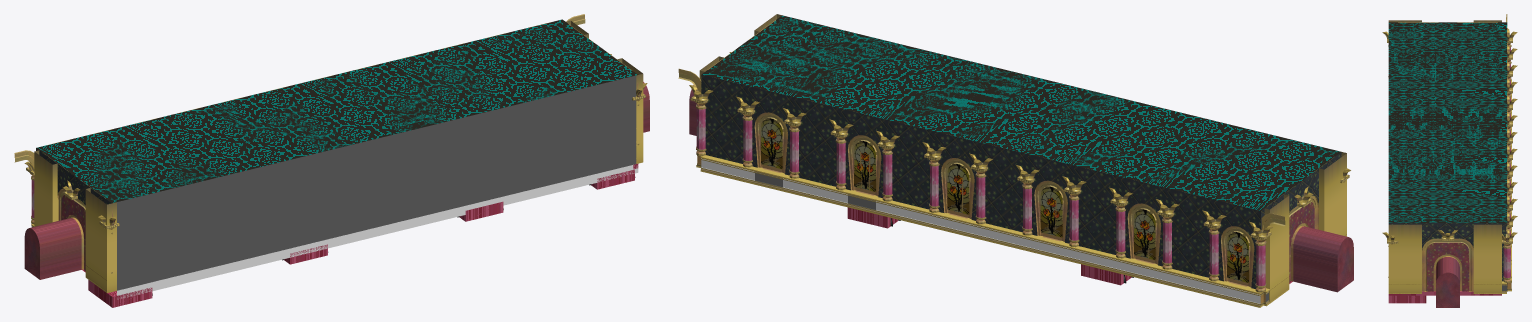
Rendered from las_03.dae.
3 renders of one model, left to right at view 1: azimuth 30°, elevation 25°; view 2: azimuth 150°, elevation 25°; view 3: azimuth 270°, elevation 25°, orthographic. The views are drawn at different scales.
Parts seen in each view (by area): view 1: pPlane2_q00009, polySurface1_q00126_part1, polySurface1_q00109_part1, polySurface1_q00092_part1, polySurface1_q00058_part1, polySurface1_q00075_part1, polySurface1_q00010, pPlane2_q000010, polySurface1_q00147_part1, polySurface1_q00041_part1, S_l_bero_03_part2, polySurface3_q00012 (+5 smaller); view 2: polySurface1_q00010, polySurface1_q00109_part1, polySurface1_q00126_part1, polySurface1_q00092_part1, polySurface1_q00058_part1, polySurface1_q00075_part1, polySurface1_q00058_part0, polySurface1_q00075_part0, polySurface1_q00126_part0, polySurface1_q00109_part0, polySurface1_q00092_part0, polySurface1_q00041_part1 (+34 smaller); view 3: polySurface1_q00010, polySurface1_q00092_part1, polySurface1_q00126_part1, polySurface1_q00109_part1, polySurface1_q00075_part1, polySurface1_q00058_part1, polySurface3_q00001, polySurface1_q00147_part1, polySurface3_q00002, polySurface1_q00041_part1, pCylinder3_q00171_part1, polySurface1_q00172 (+8 smaller).
Part boxes in pixels (box(x1,y1,x2,y2)): pPlane2_q00009: box(117, 75, 636, 290); polySurface1_q00126_part1: box(168, 94, 330, 171); polySurface1_q00109_part1: box(80, 116, 242, 192); polySurface1_q00092_part1: box(431, 30, 593, 106); polySurface1_q00058_part1: box(256, 73, 416, 149); polySurface1_q00075_part1: box(343, 51, 505, 126); polySurface1_q00010: box(40, 23, 597, 203); pPlane2_q000010: box(117, 164, 638, 299); polySurface1_q00147_part1: box(519, 19, 637, 85); polySurface1_q00041_part1: box(36, 137, 155, 202); S_l_bero_03_part2: box(24, 218, 81, 279); polySurface3_q00012: box(85, 187, 116, 292); polySurface1_q00010: box(707, 16, 1339, 197); polySurface1_q00109_part1: box(1121, 118, 1294, 199); polySurface1_q00126_part1: box(1028, 95, 1201, 176); polySurface1_q00092_part1: box(748, 27, 920, 108); polySurface1_q00058_part1: box(935, 72, 1107, 153); polySurface1_q00075_part1: box(842, 49, 1014, 131); polySurface1_q00058_part0: box(934, 131, 1027, 232); polySurface1_q00075_part0: box(841, 108, 934, 209); polySurface1_q00126_part0: box(1027, 154, 1120, 254); polySurface1_q00109_part0: box(1121, 177, 1214, 277); polySurface1_q00092_part0: box(748, 86, 841, 186); polySurface1_q00041_part1: box(1215, 140, 1340, 210); polySurface1_q00010: box(1388, 22, 1501, 221); polySurface1_q00092_part1: box(1388, 172, 1507, 206); polySurface1_q00126_part1: box(1388, 72, 1507, 105); polySurface1_q00109_part1: box(1388, 39, 1507, 72); polySurface1_q00075_part1: box(1388, 139, 1507, 172); polySurface1_q00058_part1: box(1388, 106, 1507, 139); polySurface3_q00001: box(1388, 224, 1421, 293); polySurface1_q00147_part1: box(1388, 206, 1507, 222); polySurface3_q00002: box(1473, 224, 1501, 293); polySurface1_q00041_part1: box(1388, 22, 1507, 38); pCylinder3_q00171_part1: box(1427, 242, 1469, 291); polySurface1_q00172: box(1388, 223, 1507, 291).
Size of the model in its own units: 139 by 22.81 by 34.36.
